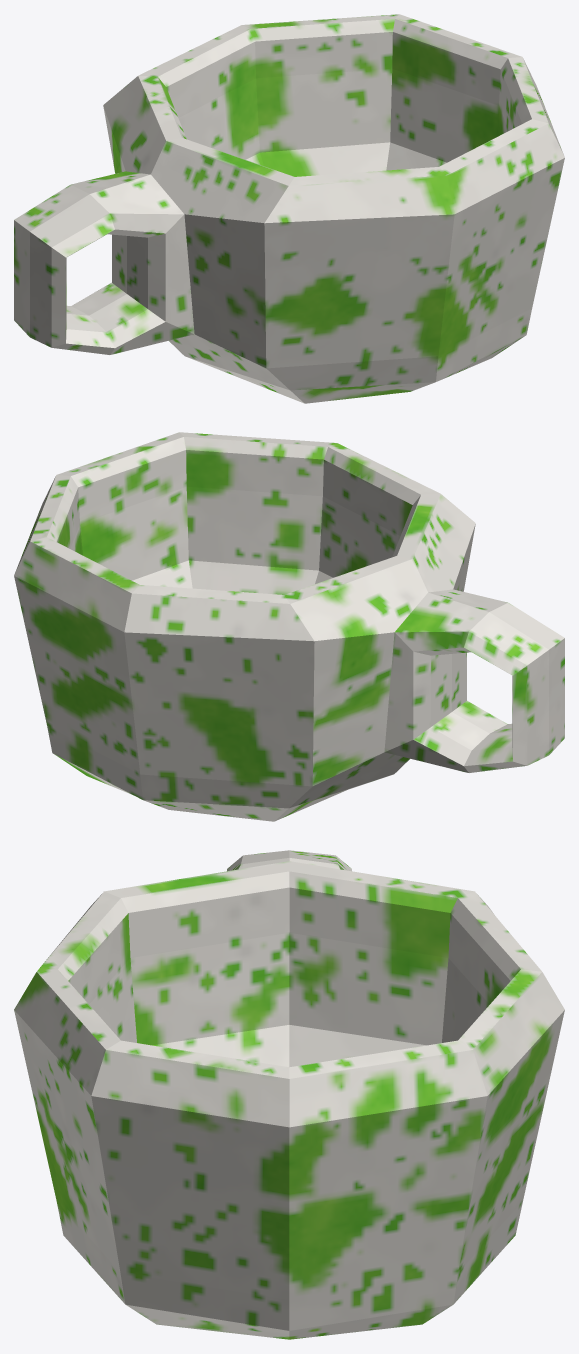
File: Teacup.fbx
3 views of the same model, one above another, from view 1: azimuth 30°, elevation 25°; view 2: azimuth 150°, elevation 25°; view 3: azimuth 270°, elevation 25° (orthographic). The views are drawn at different scales.
Parts seen in each view (by area): view 1: Cube.005; view 2: Cube.005; view 3: Cube.005.
Part boxes in pixels (left/top/right/bottom): Cube.005: left=14, top=14, right=564, bottom=403; Cube.005: left=14, top=432, right=564, bottom=821; Cube.005: left=14, top=850, right=564, bottom=1339.
Bounding box in the file's own units: 139 × 65.74 × 106.
Materials: 1 (1 with a texture image).
